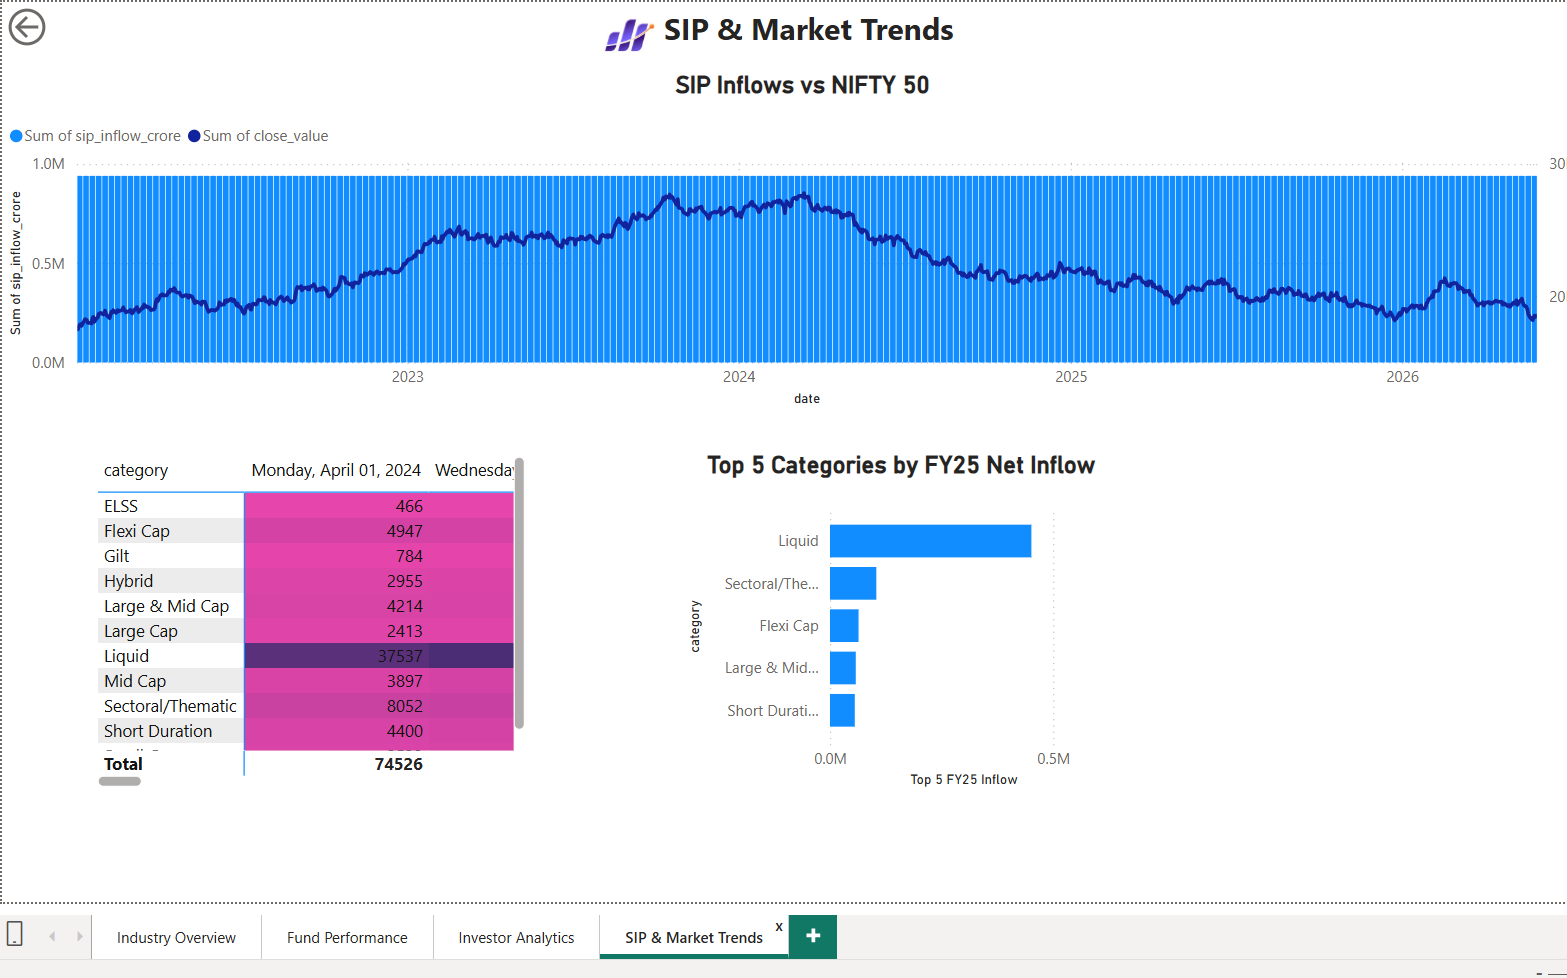

The dashboard page shown, as its layout file describes it:
{"tool":"powerbi","page":{"name":"SIP & Market Trends","canvas":[1280,720],"ordinal":3},"visuals":[{"type":"textbox","box":[9.9,0,1270.3,54.5],"z":0},{"type":"lineClusteredColumnComboChart","title":"SIP Inflows vs NIFTY 50","fields":{"Y":["Sum(monthly_sip_inflows.sip_inflow_crore)"],"Y2":["Sum(benchmark_indices.close_value)"],"Category":["benchmark_indices.date"]},"box":[0,54.5,1280.3,273.9],"z":1000},{"type":"actionButton","box":[0,0,100,40],"z":2000},{"type":"pivotTable","fields":{"Rows":["category_inflows.category"],"Columns":["category_inflows.month"],"Values":["Sum(category_inflows.net_inflow_crore)"]},"box":[70.6,359.4,352,274],"z":3000},{"type":"clusteredBarChart","title":"Top 5 Categories by FY25 Net Inflow","fields":{"Category":["category_inflows.category"],"Y":["DateTable.Top 5 FY25 Inflow"]},"box":[542.8,359.4,352,274],"z":4000},{"type":"image","box":[475.9,0,52.1,54.5],"z":4001}]}

Visuals, with their boxes on the page's 1280x720 design canvas (x1, y1, x2, y2). These are canvas units, not pixel positions in the 1567x978 screenshot, which may show the page scaled, cropped or inside an application window:
textbox: x1=10, y1=0, x2=1280, y2=54
"SIP Inflows vs NIFTY 50" lineClusteredColumnComboChart: x1=0, y1=54, x2=1280, y2=328
actionButton: x1=0, y1=0, x2=100, y2=40
pivotTable - category_inflows.category x category_inflows.month: x1=71, y1=359, x2=423, y2=633
"Top 5 Categories by FY25 Net Inflow" clusteredBarChart: x1=543, y1=359, x2=895, y2=633
image: x1=476, y1=0, x2=528, y2=54
